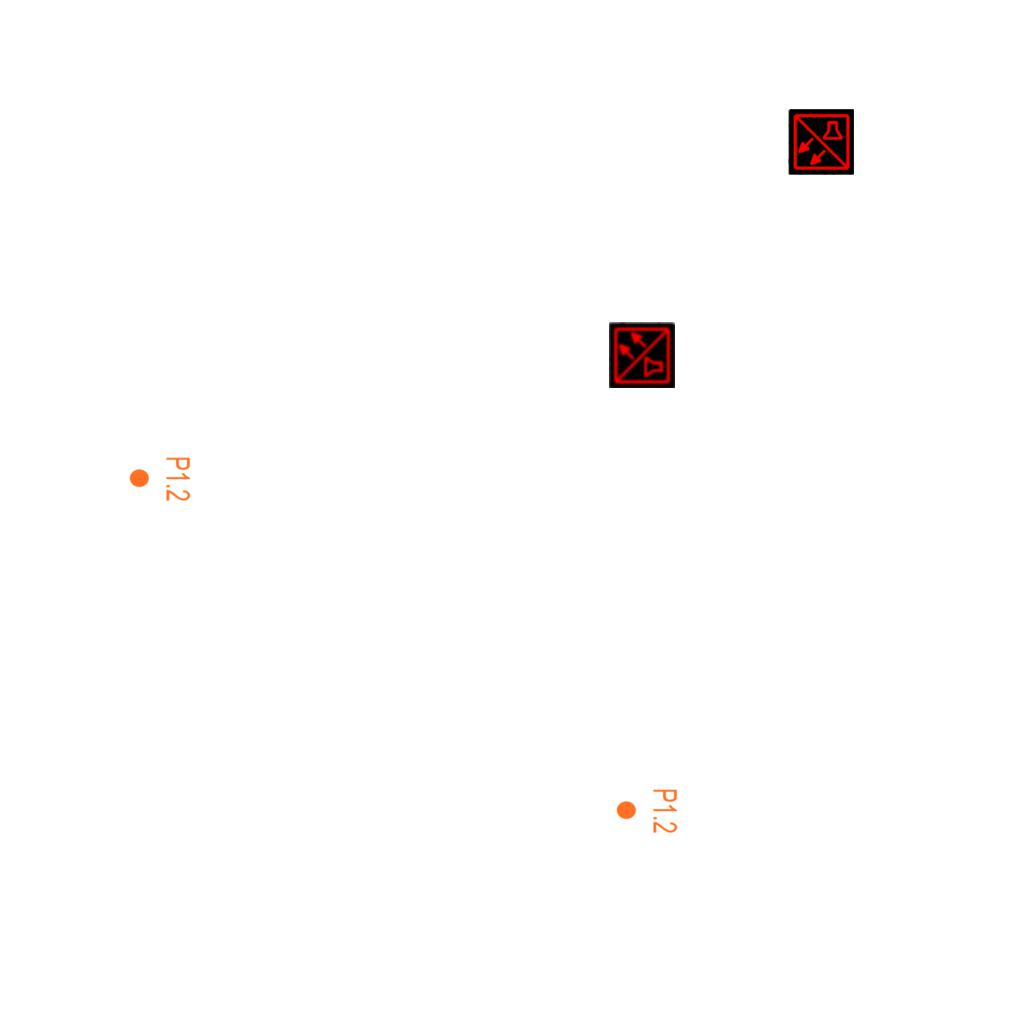Downlight_LED_Einbauleuchten_Flur: (128, 456, 192, 502), (615, 788, 679, 834)
OKW_Multisensormelder_(Kombination_optischer_Rauch-Kahlenmonoxid_Waerme-Melder): (788, 109, 854, 175), (609, 322, 675, 388)
